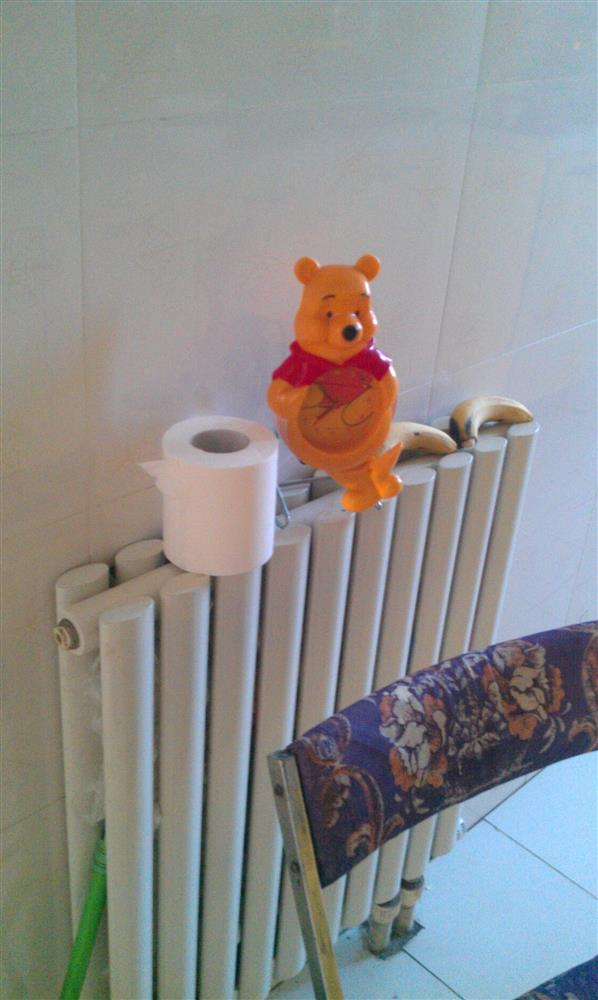pooh: (266, 252, 414, 509)
